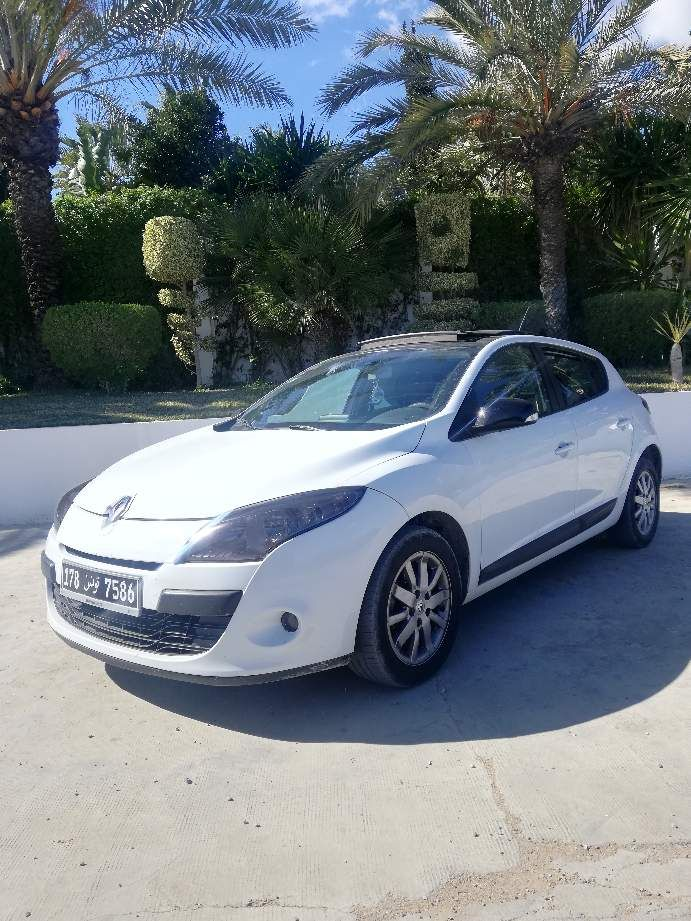LP: (61, 561, 141, 613)
